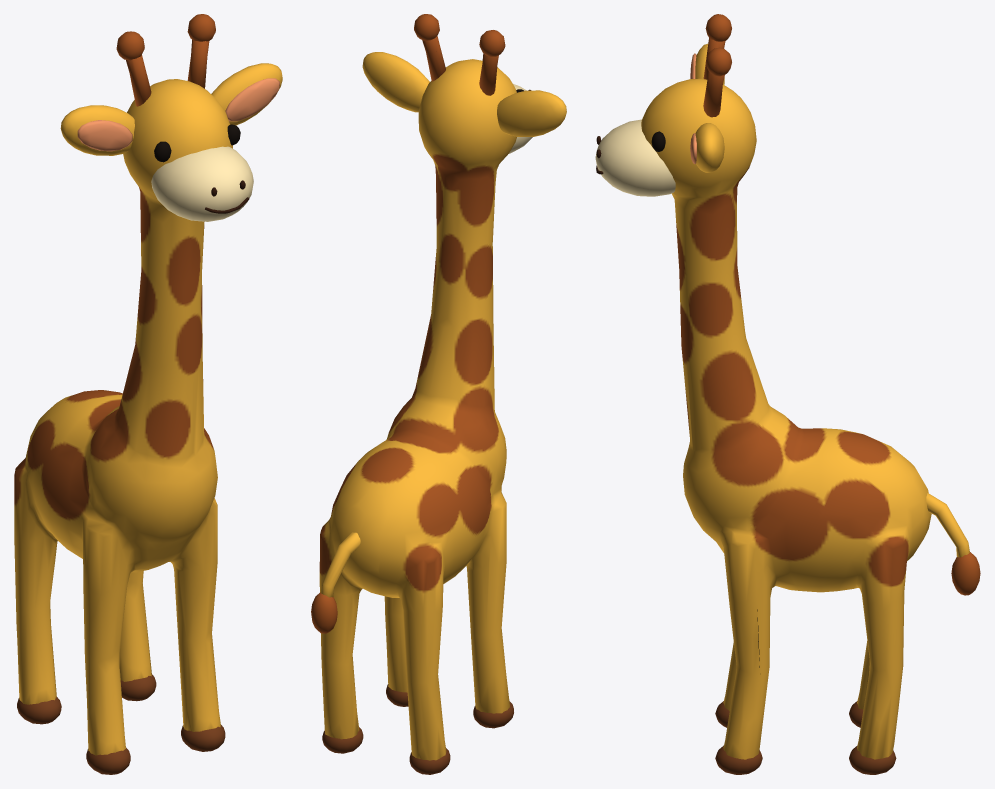
The model's file is giraffe.glb.
3 views of the same model, side by side, from view 1: azimuth 30°, elevation 25°; view 2: azimuth 150°, elevation 25°; view 3: azimuth 270°, elevation 25° (orthographic). The views are drawn at different scales.
Visible parts, largest first — view 1: giraffe; view 2: giraffe; view 3: giraffe.
Boxes of the visible parts, box(x1,y1,x2,y2) form: giraffe: box(14, 14, 282, 774); giraffe: box(311, 14, 566, 774); giraffe: box(595, 14, 980, 774).
Bounding box in the file's own units: 0.3102 × 1 × 0.4858.
1 material, 1 textured.
